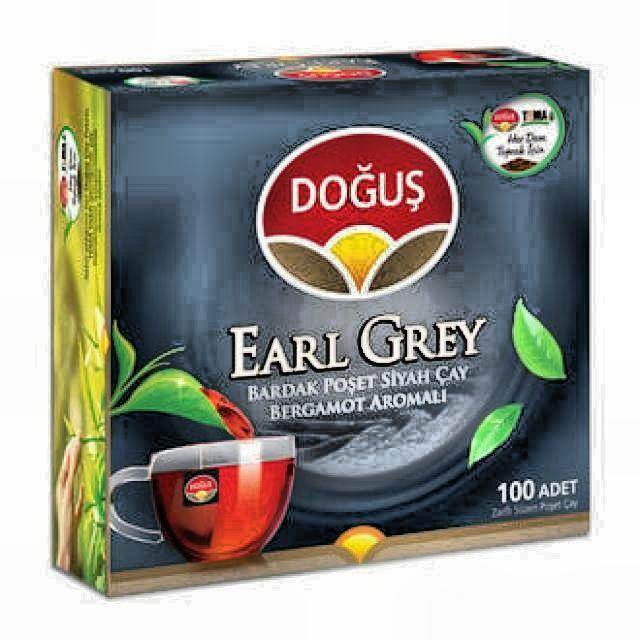cardboard: (50, 48, 592, 601)
